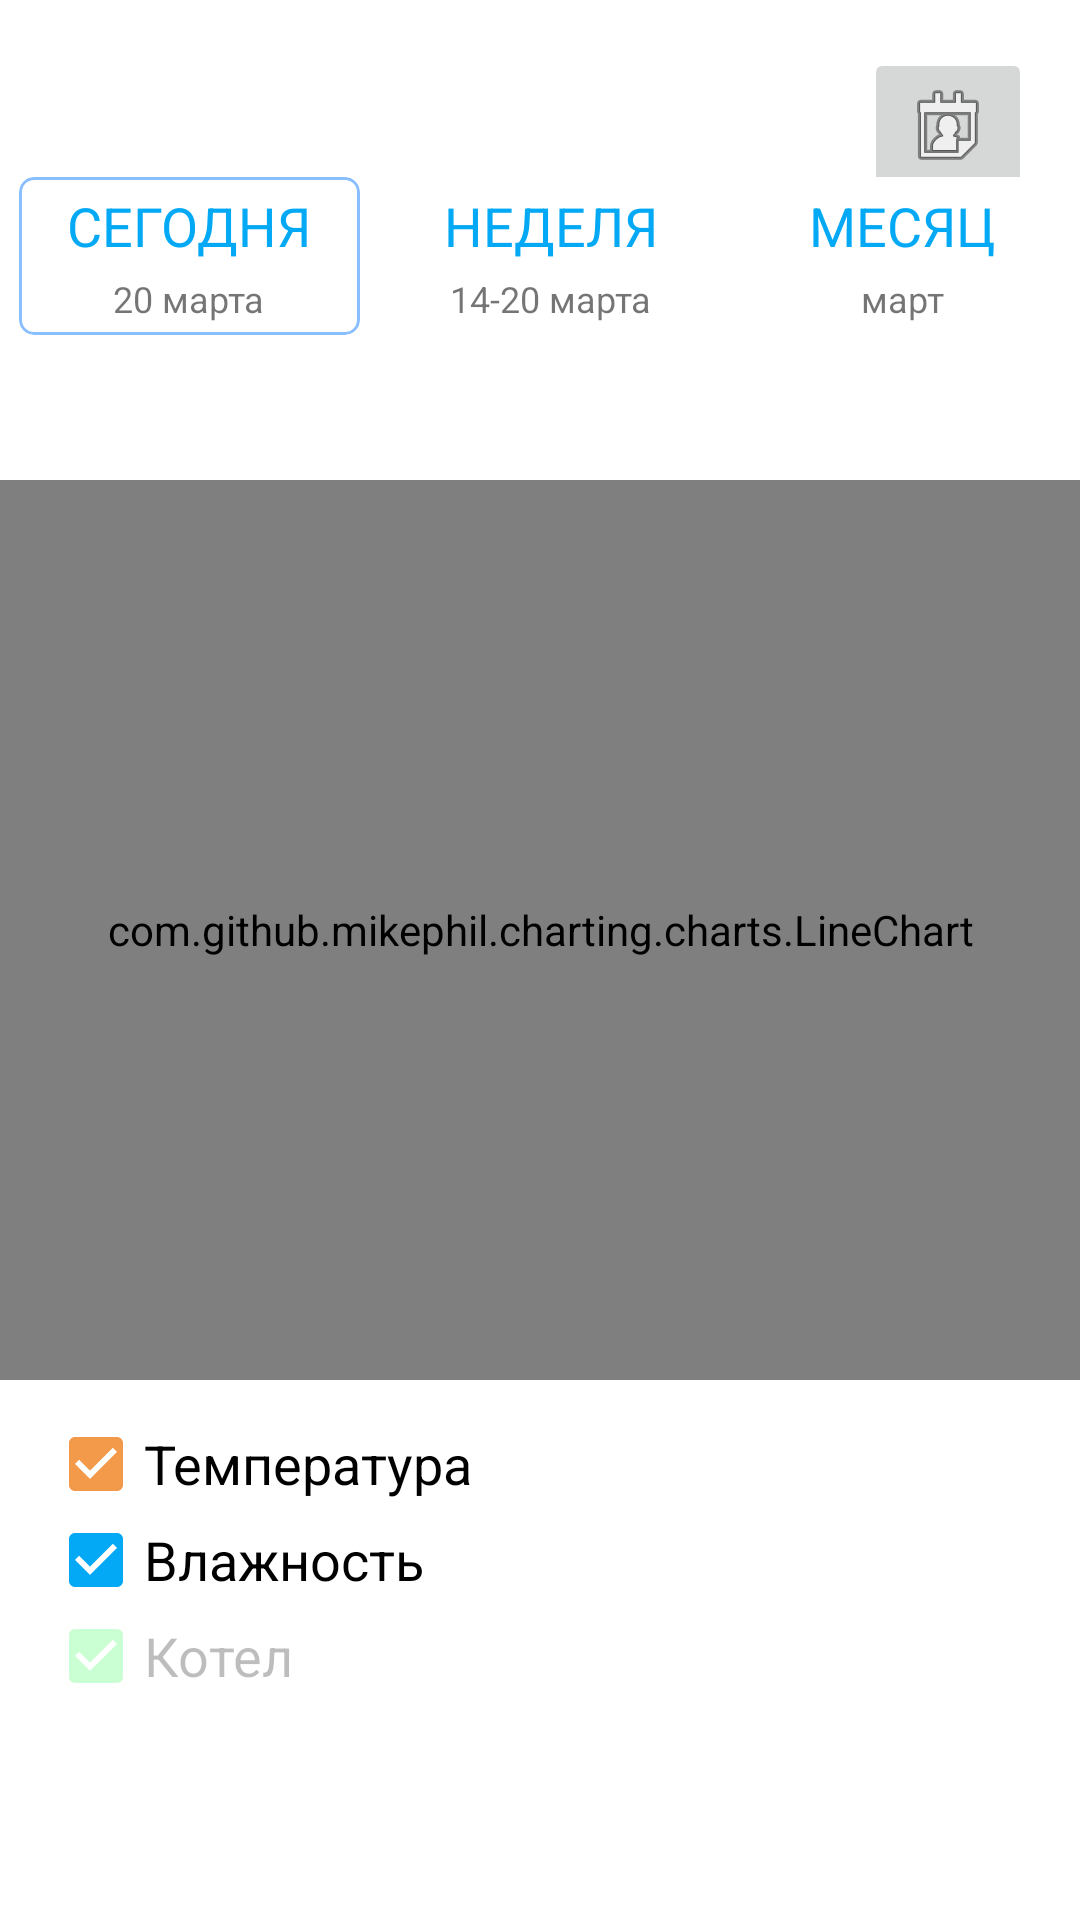

Icons on this 1080 × 1920 Android screen, each with the point to tap as [x,y]:
calendar: [948,121]
